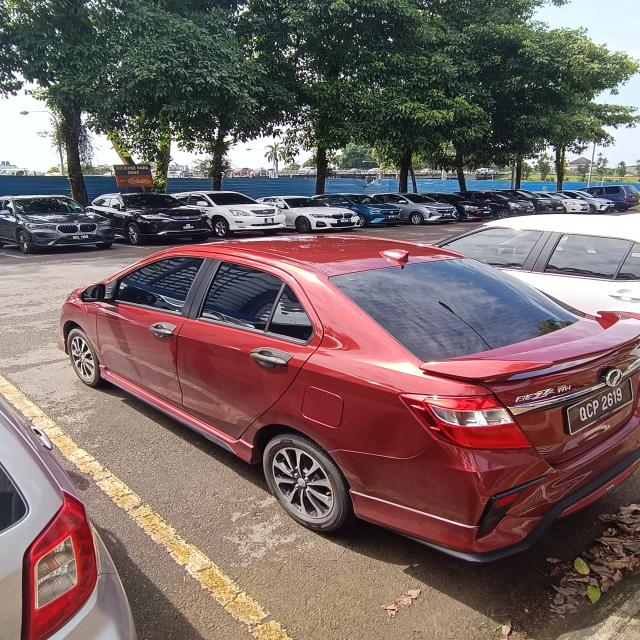PeroduaBezza: (56, 232, 639, 564)
